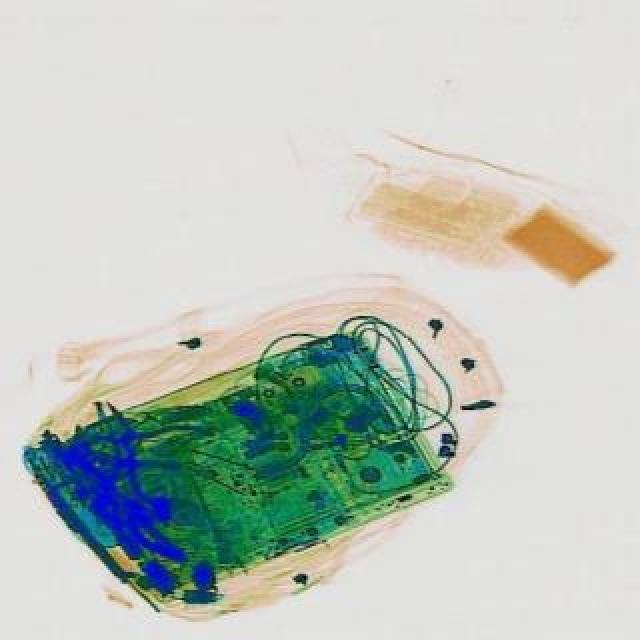wrench: (66, 376, 216, 512)
